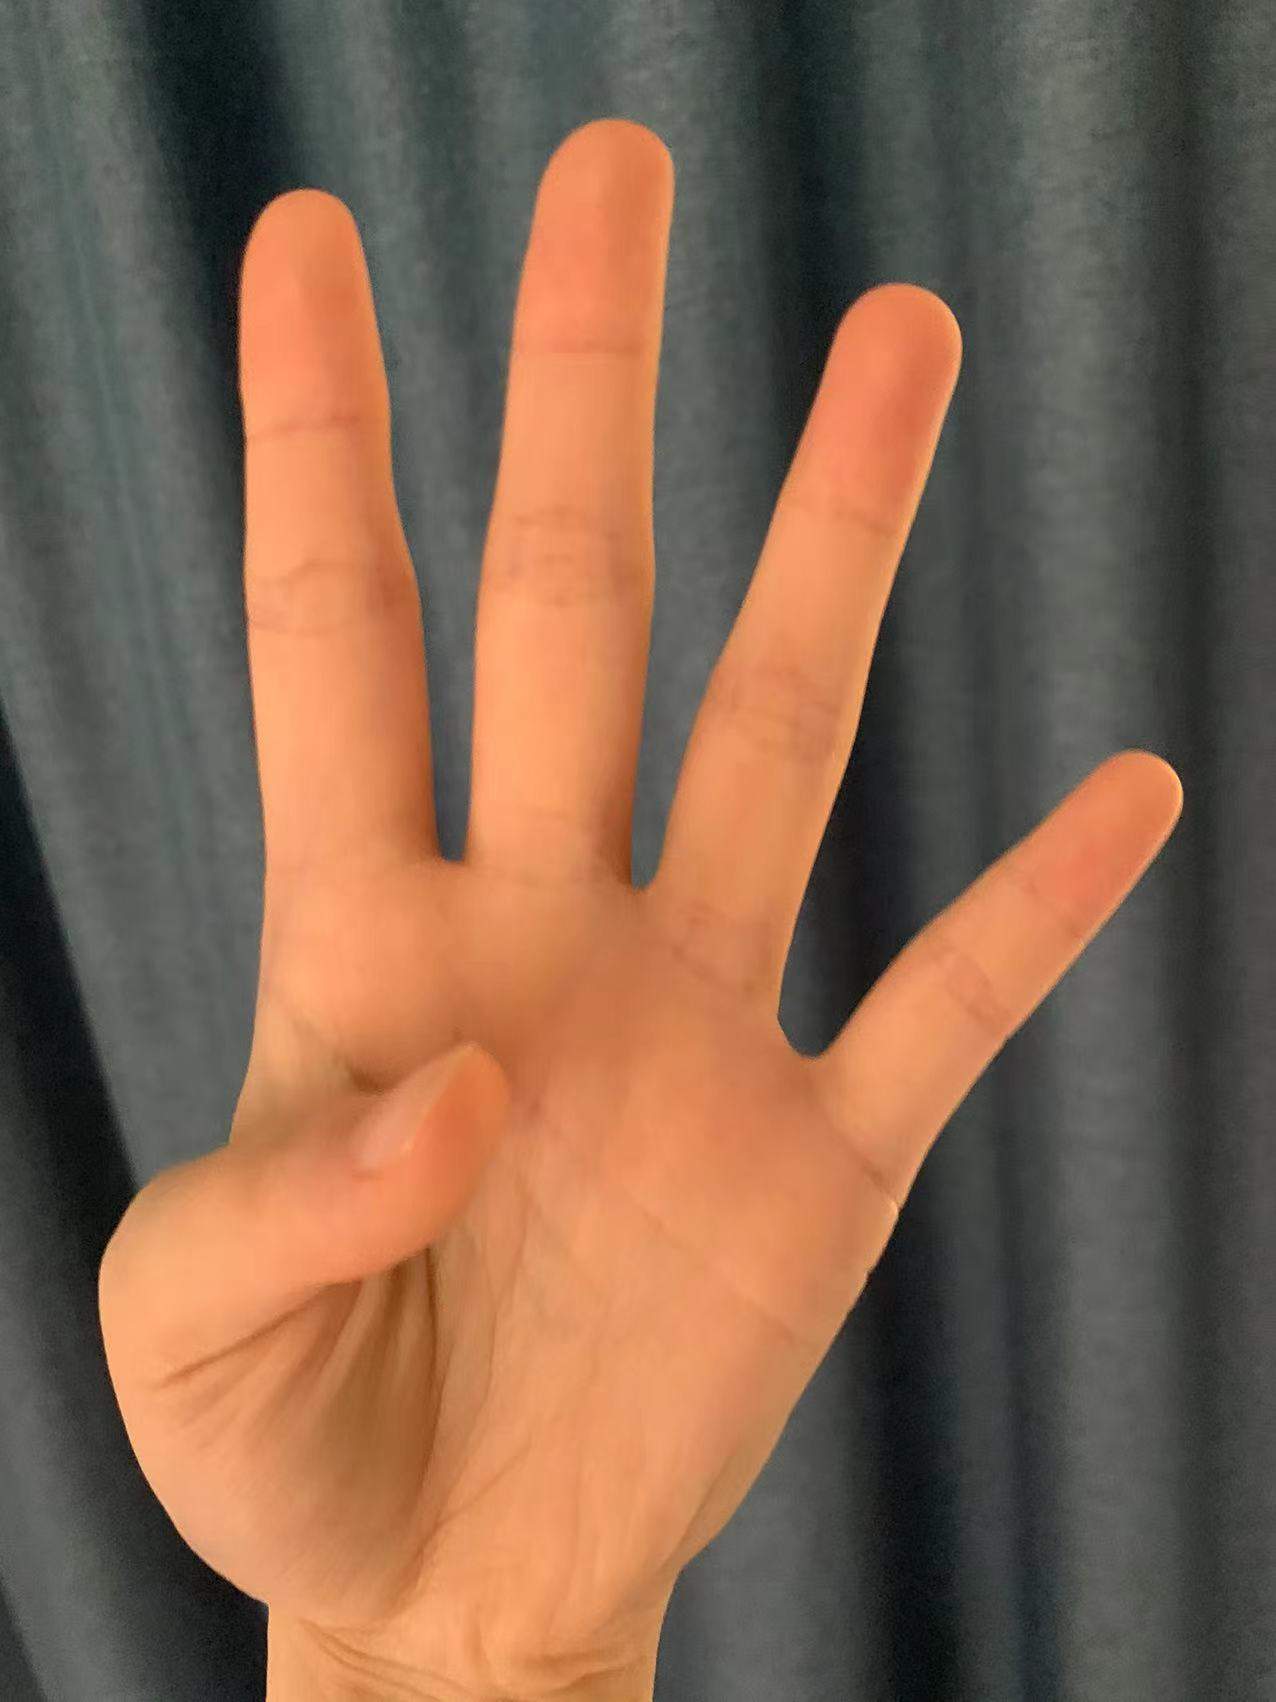right: (92, 107, 1209, 1587)
